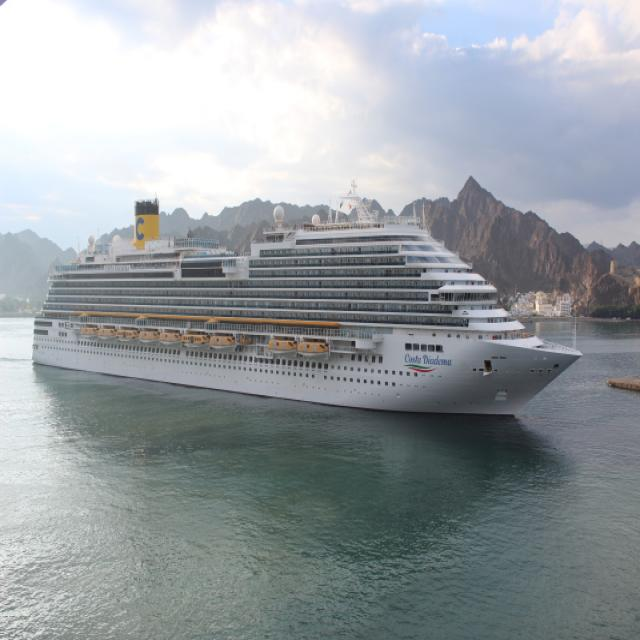cruises: (29, 193, 586, 424)
